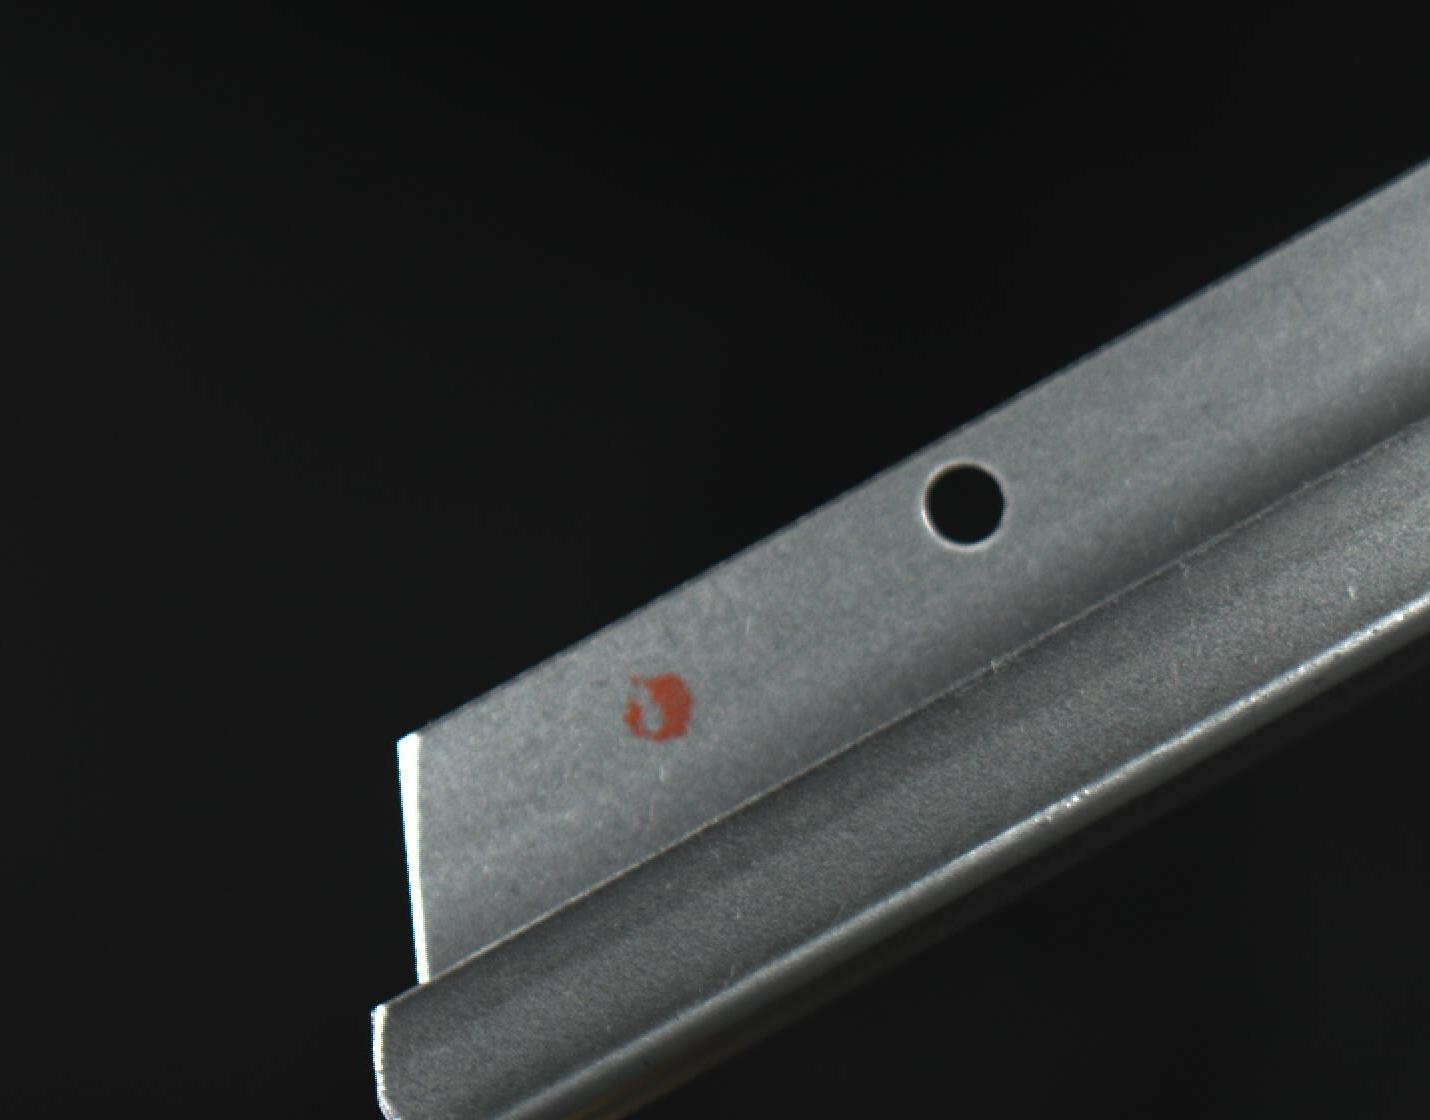cut: (289, 606, 771, 1113)
holes: (919, 458, 1011, 549)
